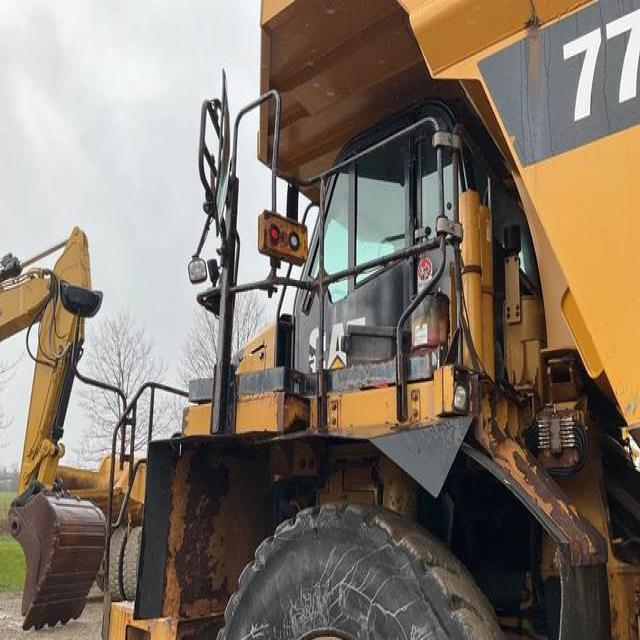dump_truck: (146, 0, 640, 640), (69, 444, 141, 600)
excavator: (0, 227, 103, 628)
